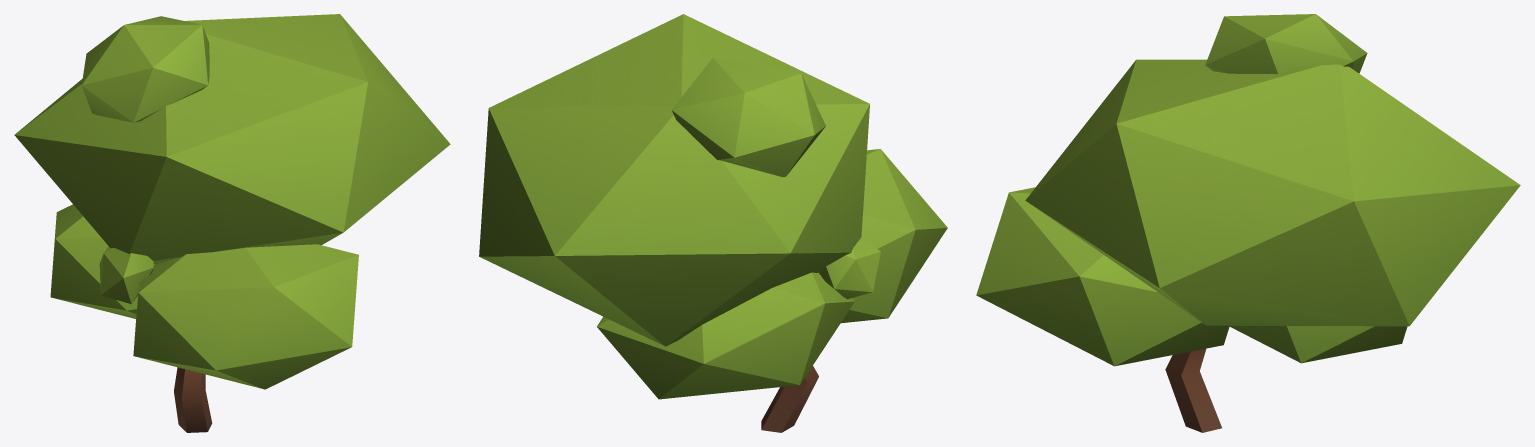
File: arbusto9.fbx
3 renders of one model, left to right at view 1: azimuth 30°, elevation 25°; view 2: azimuth 150°, elevation 25°; view 3: azimuth 270°, elevation 25°, orthographic. The views are drawn at different scales.
Parts seen in each view (by area): view 1: arbusto15; view 2: arbusto15; view 3: arbusto15.
Boxes of the visible parts, x1,y1,x2,y2 form: arbusto15: (14, 14, 450, 432); arbusto15: (479, 14, 947, 432); arbusto15: (976, 14, 1520, 432).
Bounding box in the file's own units: 388 × 416 × 508.
